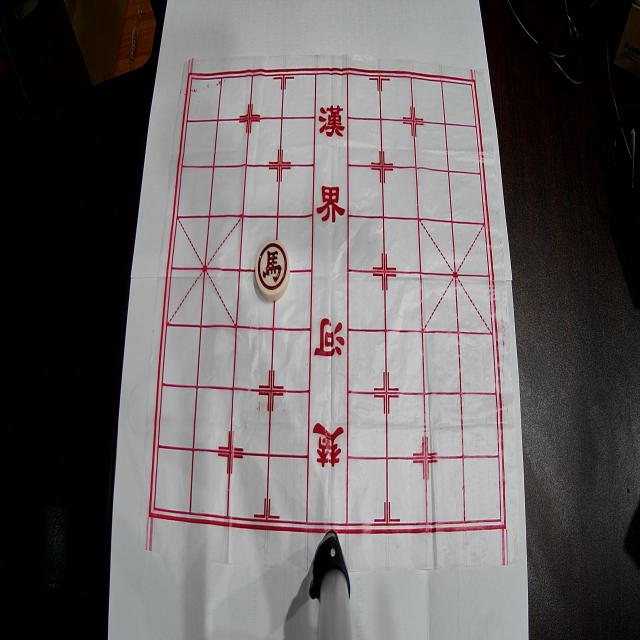red-horse: (255, 239, 290, 301)
